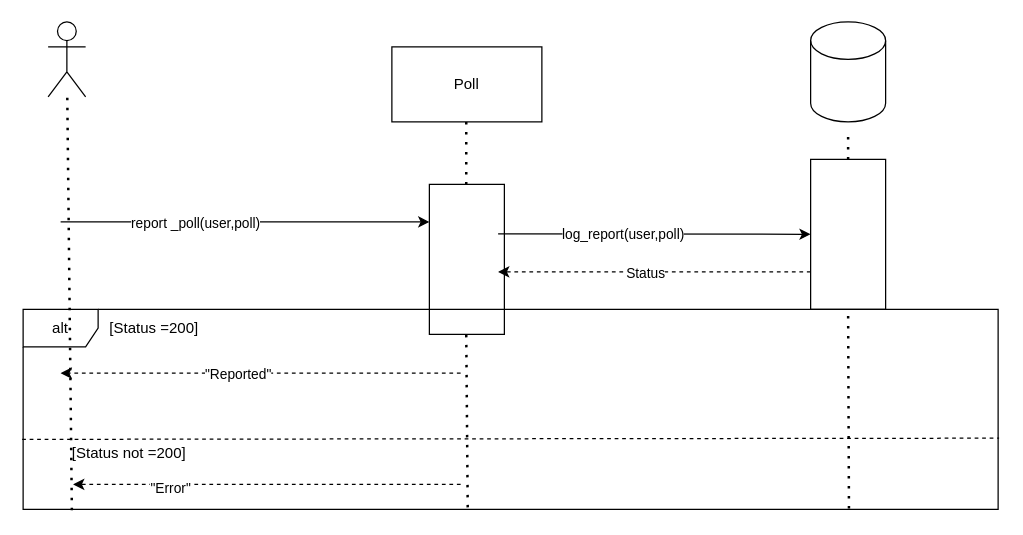
Image size: 1023x535. Some labels were removed from this diagram. The centre of each missing label's shape, as x and y in pixels:
"Database" goes at pixel 847 71.
"Member" goes at pixel 66 59.
